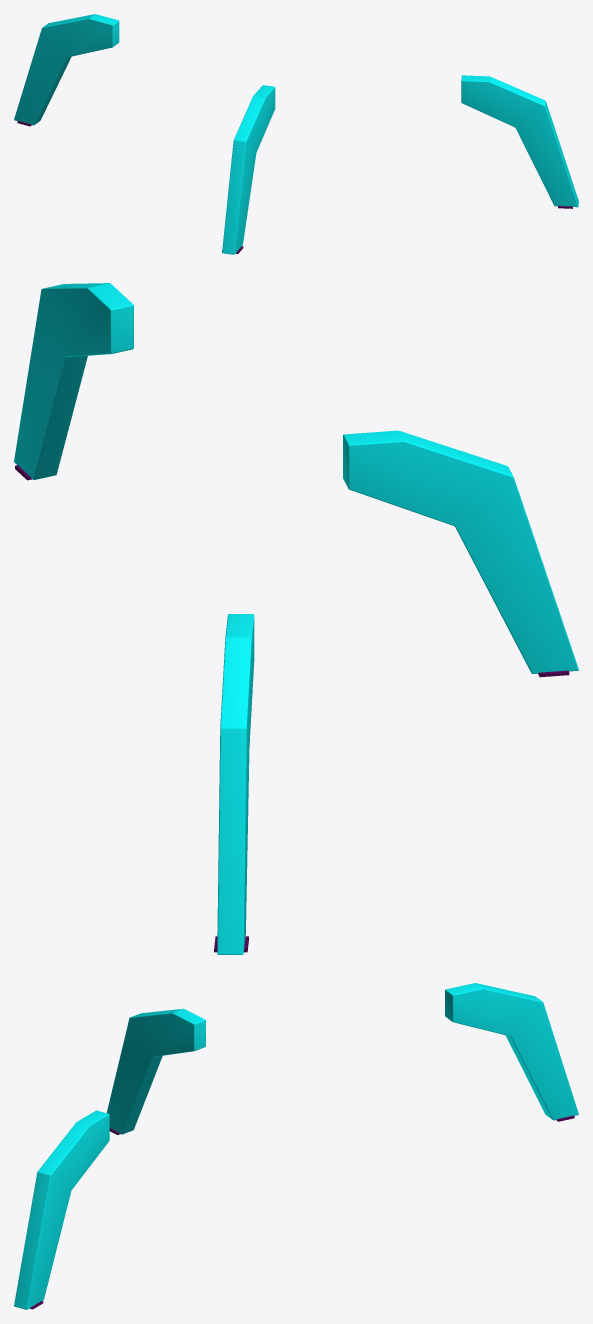
File: levante_legs_footstool.gltf
3 views of the same model, one above another, from view 1: azimuth 30°, elevation 25°; view 2: azimuth 150°, elevation 25°; view 3: azimuth 270°, elevation 25° (orthographic). The views are drawn at different scales.
Parts seen in each view (by area): view 1: leg_footstool; view 2: leg_footstool; view 3: leg_footstool.
Part boxes in pixels (left/top/right/bottom): leg_footstool: left=14, top=14, right=578, bottom=254; leg_footstool: left=14, top=283, right=578, bottom=954; leg_footstool: left=14, top=983, right=578, bottom=1309.
Bounding box in the file's own units: 0.6839 × 0.2361 × 0.8135.
